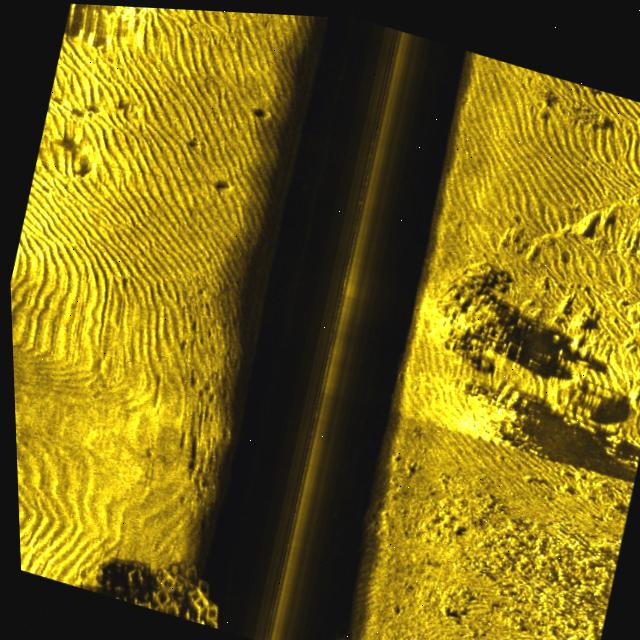artificial reef: (113, 537, 241, 631), (293, 620, 358, 640)
